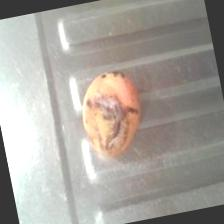Mango Overripe: (71, 61, 152, 162)
